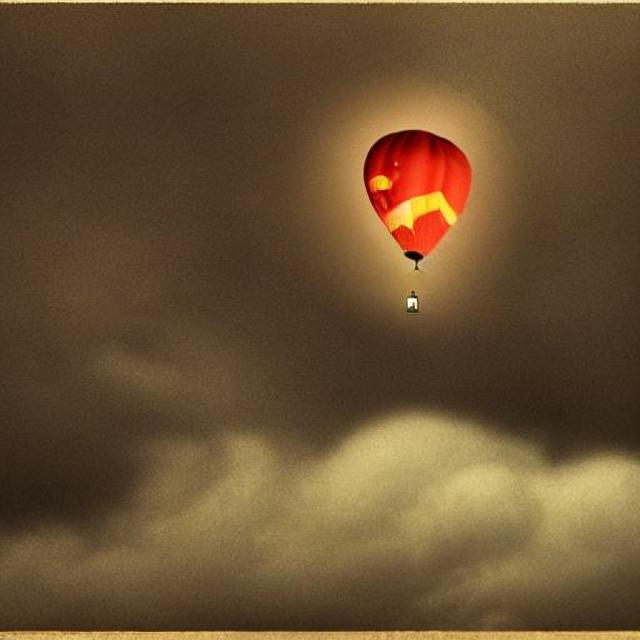balloon: (356, 132, 472, 268)
